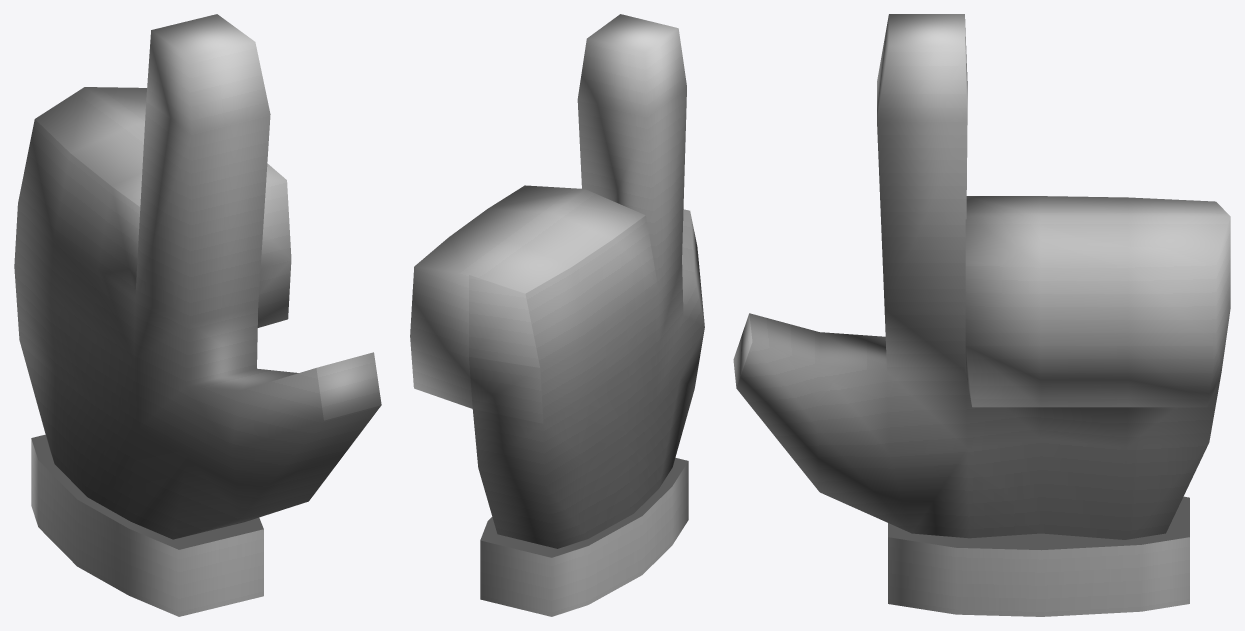
The model's file is hand.fbx.
The picture shows the model from 3 angles, left to right: view 1: azimuth 30°, elevation 25°; view 2: azimuth 150°, elevation 25°; view 3: azimuth 270°, elevation 25°; orthographic projection. The views are drawn at different scales.
Parts seen in each view (by area): view 1: pCube2; view 2: pCube2; view 3: pCube2.
Boxes of the visible parts, left/top/right/bottom form: pCube2: left=14, top=14, right=381, bottom=616; pCube2: left=410, top=14, right=704, bottom=616; pCube2: left=733, top=14, right=1230, bottom=616.
Size of the model in its own units: 2.15 by 6.48 by 5.27.
